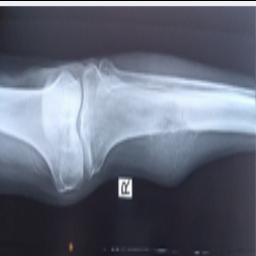cancer: (105, 100, 201, 183)
